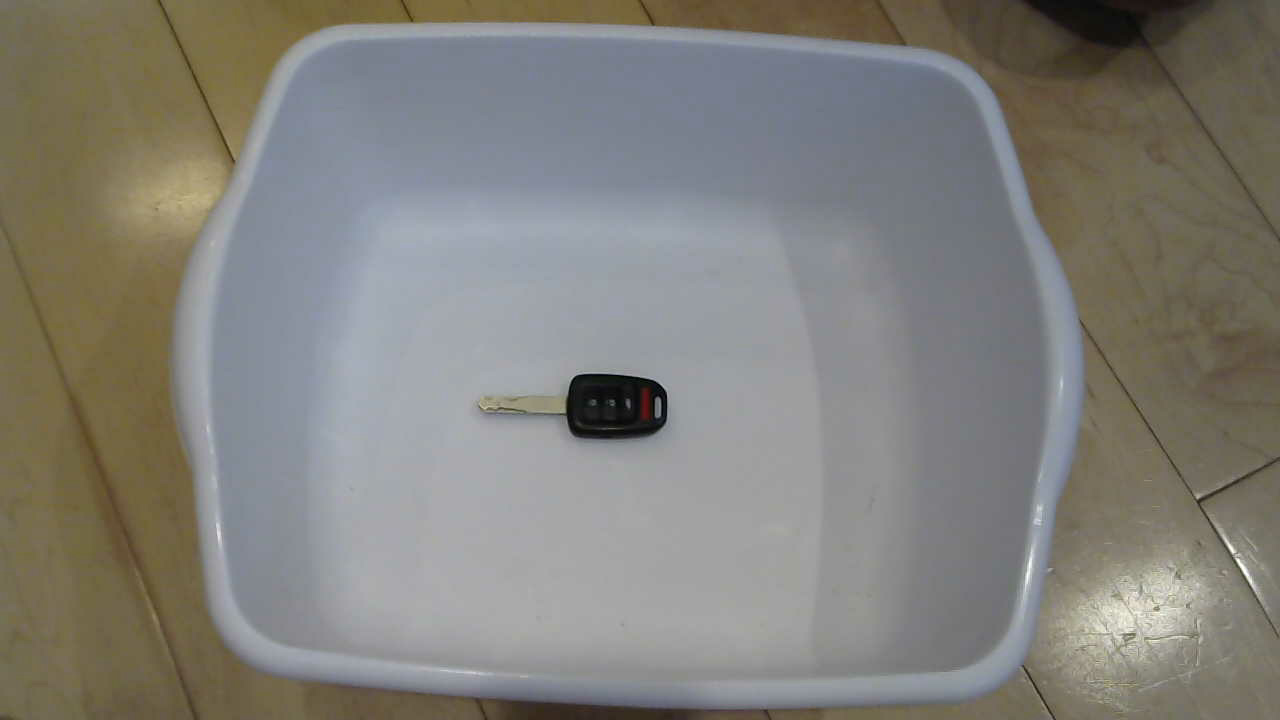key: (457, 364, 683, 465)
